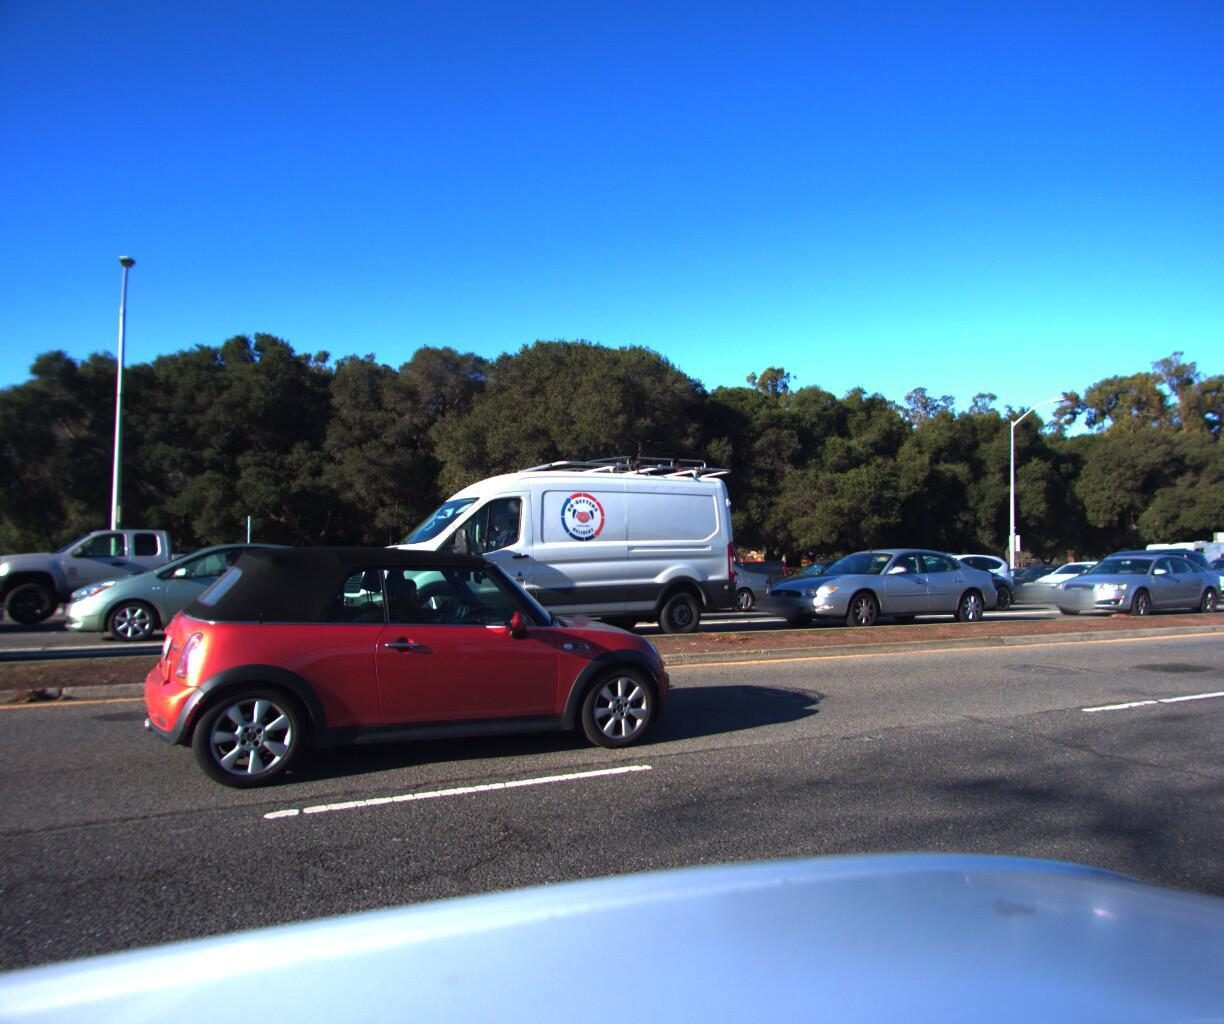car: (144, 536, 676, 805), (310, 426, 744, 657), (47, 536, 381, 644), (745, 538, 1017, 628), (170, 543, 439, 628), (259, 542, 453, 617), (598, 536, 795, 607), (1035, 547, 1224, 614), (585, 552, 778, 615), (1044, 538, 1210, 606), (854, 552, 1029, 612), (847, 545, 983, 602), (878, 546, 1015, 600), (1023, 554, 1148, 600), (771, 554, 888, 597), (991, 558, 1099, 597), (1173, 547, 1224, 594)
other_vehicle: (1133, 535, 1224, 589)
